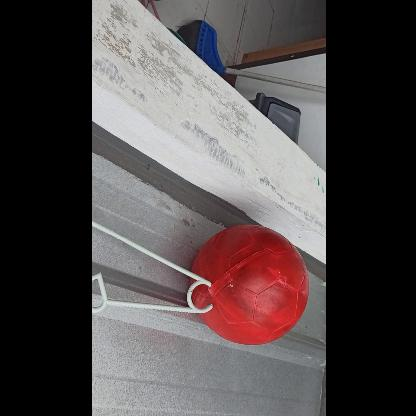red_ball: (188, 226, 310, 348)
